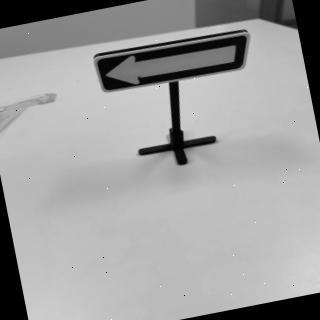sign_oneway_left: (86, 22, 258, 100)
